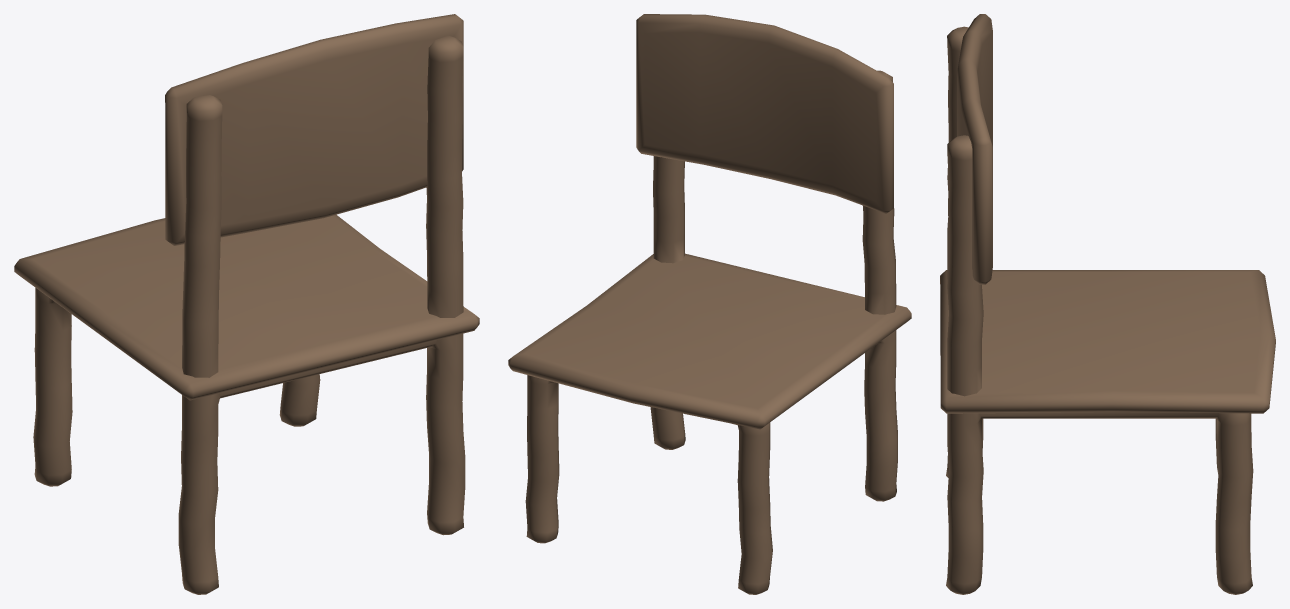
The model's file is chair-1.fbx.
3 renders of one model, left to right at view 1: azimuth 30°, elevation 25°; view 2: azimuth 150°, elevation 25°; view 3: azimuth 270°, elevation 25°, orthographic. The views are drawn at different scales.
Parts seen in each view (by area): view 1: Plane, Frame, Plane.001; view 2: Plane, Plane.001, Frame; view 3: Plane, Frame, Plane.001.
Part boxes in pixels (left/top/right/bottom): Plane: left=14, top=214, right=479, bottom=400; Frame: left=33, top=35, right=465, bottom=594; Plane.001: left=165, top=14, right=463, bottom=245; Plane: left=508, top=253, right=911, bottom=429; Plane.001: left=636, top=14, right=893, bottom=213; Frame: left=525, top=70, right=897, bottom=594; Plane: left=940, top=270, right=1275, bottom=413; Frame: left=946, top=26, right=1253, bottom=594; Plane.001: left=957, top=14, right=992, bottom=284.
Bounding box in the file's own units: 68.44 × 114 × 72.6.
